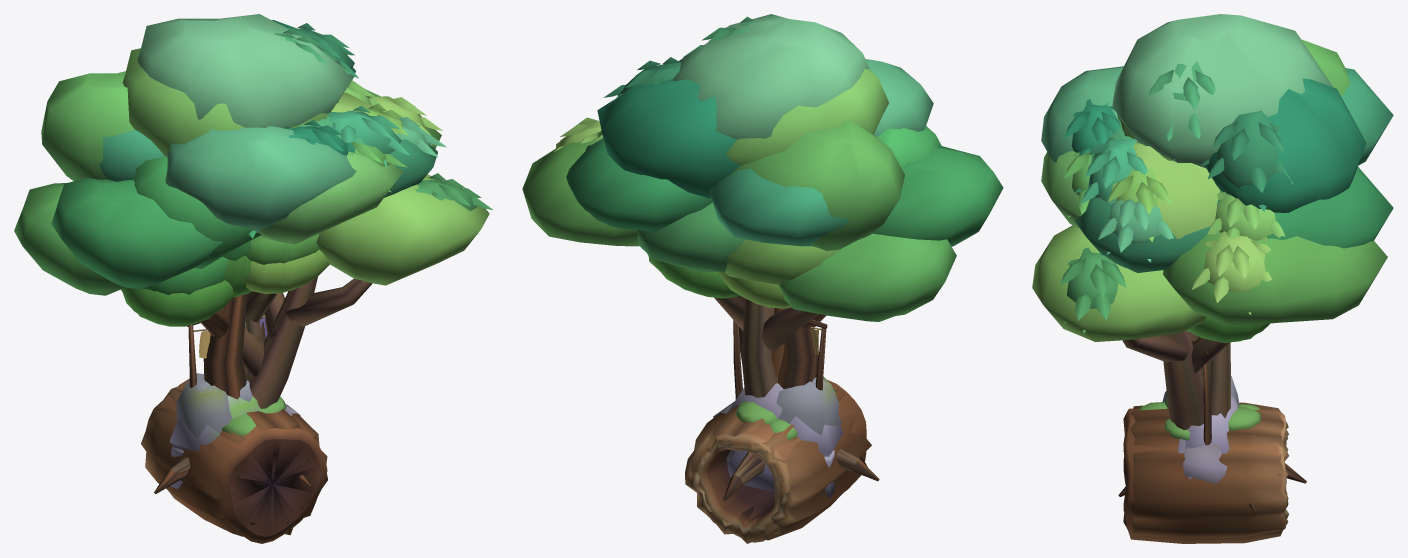
The model's file is bosque.glb.
3 renders of one model, left to right at view 1: azimuth 30°, elevation 25°; view 2: azimuth 150°, elevation 25°; view 3: azimuth 270°, elevation 25°, orthographic. The views are drawn at different scales.
Parts seen in each view (by area): view 1: Amieiro_Copa_economica, Carvalho_Copa_economica, Aveleira_Copa_economica, Carvalho_Copa, Tronco_Chibi, Aveleira_Tronco, Tronco_Oco, Amieiro_Pontas, Aveleira_Chibi_Copa, Carvalho_Tronco, Aveleira_Pontas, Pedra_fendida (+7 smaller); view 2: Amieiro_Copa_economica, Carvalho_Copa_economica, Aveleira_Copa_economica, Carvalho_Copa, Amieiro_Copa, Tronco_Oco, Aveleira_Copa, Tronco_Chibi, Amieiro_Tronco, Carvalho_Tronco, Aveleira_Chibi_Copa, Ardosia (+5 smaller); view 3: Amieiro_Copa_economica, Aveleira_Copa_economica, Tronco_Oco, Amieiro_Pontas, Amieiro_Copa, Aveleira_Pontas, Carvalho_Copa_economica, Aveleira_Tronco, Tronco_Chibi, Carvalho_Pontas, Amieiro_Tronco, Seixo_musgo (+4 smaller).
Part boxes in pixels (left/top/right/bottom): Amieiro_Copa_economica: left=99, top=14, right=437, bottom=232; Carvalho_Copa_economica: left=51, top=48, right=402, bottom=289; Aveleira_Copa_economica: left=14, top=89, right=489, bottom=295; Carvalho_Copa: left=41, top=71, right=261, bottom=268; Tronco_Chibi: left=149, top=378, right=327, bottom=543; Aveleira_Tronco: left=172, top=277, right=372, bottom=480; Tronco_Oco: left=141, top=387, right=327, bottom=536; Amieiro_Pontas: left=274, top=23, right=446, bottom=170; Aveleira_Chibi_Copa: left=121, top=249, right=329, bottom=326; Carvalho_Tronco: left=154, top=293, right=311, bottom=493; Aveleira_Pontas: left=365, top=95, right=492, bottom=234; Pedra_fendida: left=176, top=373, right=291, bottom=439; Amieiro_Copa_economica: left=673, top=14, right=933, bottom=246; Carvalho_Copa_economica: left=566, top=69, right=1003, bottom=246; Aveleira_Copa_economica: left=522, top=137, right=956, bottom=321; Carvalho_Copa: left=720, top=120, right=942, bottom=251; Amieiro_Copa: left=597, top=79, right=739, bottom=198; Tronco_Oco: left=685, top=389, right=871, bottom=543; Aveleira_Copa: left=637, top=202, right=840, bottom=284; Tronco_Chibi: left=689, top=380, right=866, bottom=542; Amieiro_Tronco: left=732, top=299, right=858, bottom=484; Carvalho_Tronco: left=723, top=314, right=879, bottom=500; Aveleira_Chibi_Copa: left=647, top=254, right=791, bottom=308; Ardosia: left=727, top=383, right=842, bottom=497; Amieiro_Copa_economica: left=1041, top=14, right=1393, bottom=272; Aveleira_Copa_economica: left=1032, top=141, right=1387, bottom=341; Tronco_Oco: left=1124, top=402, right=1289, bottom=543; Amieiro_Pontas: left=1064, top=61, right=1293, bottom=262; Amieiro_Copa: left=1091, top=78, right=1366, bottom=212; Aveleira_Pontas: left=1060, top=168, right=1271, bottom=333; Carvalho_Copa_economica: left=1041, top=114, right=1393, bottom=248; Aveleira_Tronco: left=1122, top=330, right=1229, bottom=429; Tronco_Chibi: left=1123, top=402, right=1286, bottom=533; Carvalho_Pontas: left=1064, top=151, right=1285, bottom=240; Amieiro_Tronco: left=1186, top=330, right=1230, bottom=418; Seixo_musgo: left=1183, top=445, right=1227, bottom=483.
Size of the model in its own units: 7.39 by 8.59 by 5.57.
